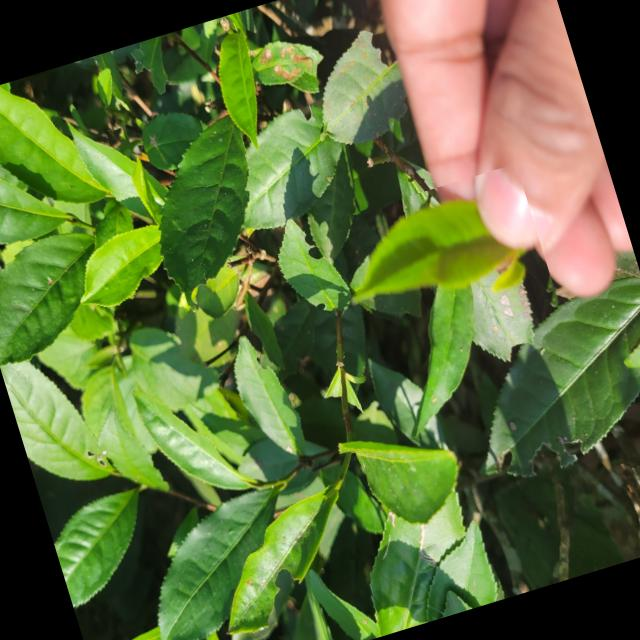Catagory A(1-2 days): (314, 162, 558, 364)
